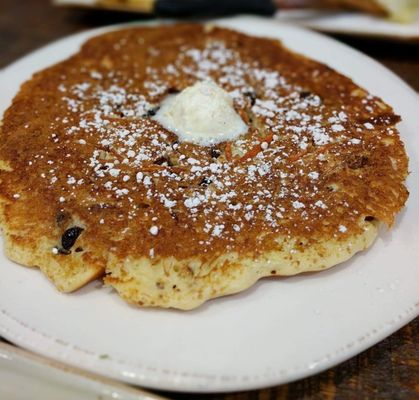sandwich: (0, 20, 417, 310)
